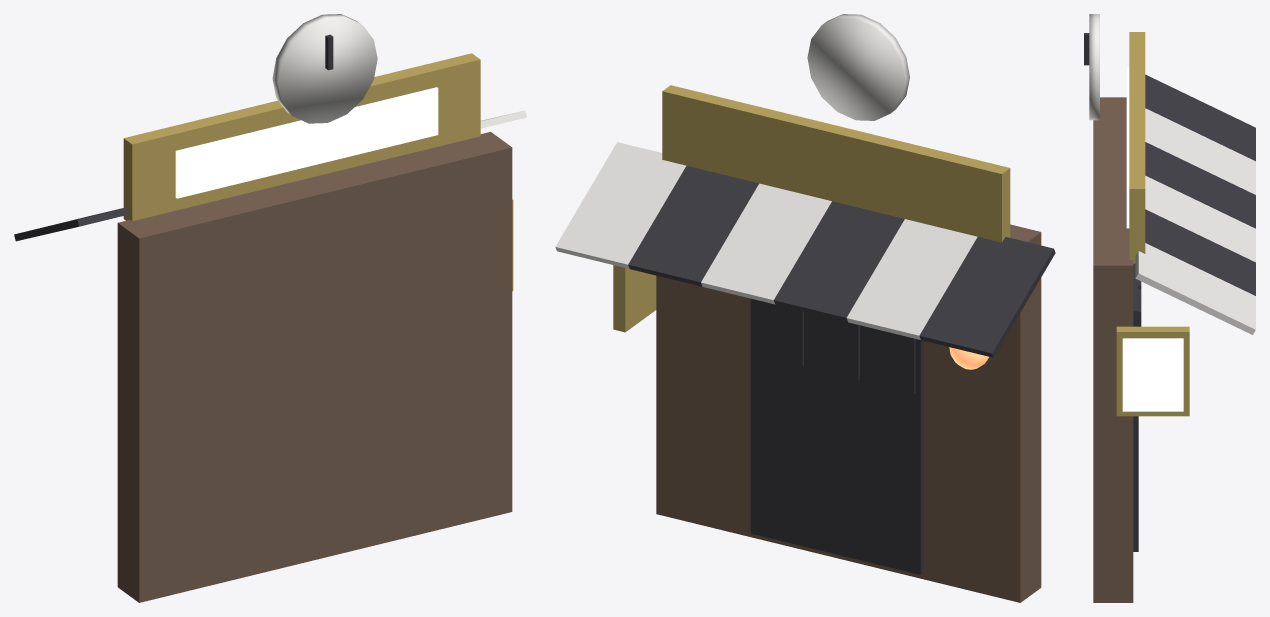
File: prop_mise_tokei.glb
3 views of the same model, side by side, from view 1: azimuth 30°, elevation 25°; view 2: azimuth 150°, elevation 25°; view 3: azimuth 270°, elevation 25° (orthographic). The views are drawn at different scales.
Parts seen in each view (by area): view 1: mise_tokei; view 2: mise_tokei; view 3: mise_tokei.
Part boxes in pixels (x1,y1,x2,y2): mise_tokei: (14,14,526,602); mise_tokei: (555,14,1055,602); mise_tokei: (1084,14,1255,602).
Size of the model in its own units: 3.6 by 4.15 by 1.29.
